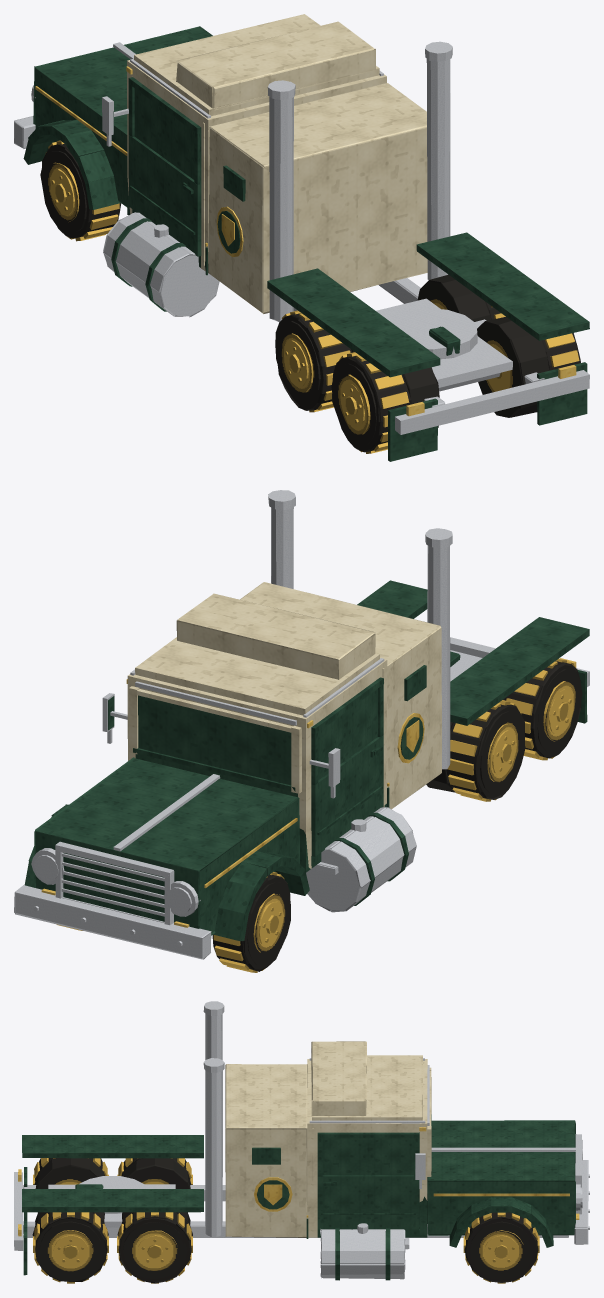
File: founders_semi.glb
3 renders of one model, top to bottom at view 1: azimuth 30°, elevation 25°; view 2: azimuth 150°, elevation 25°; view 3: azimuth 270°, elevation 25°, orthographic. The views are drawn at different scales.
Visible parts, largest first — view 1: FoundersSemi, Door_L, Wheel_L3, Wheel_L2, Wheel_R3, Wheel_L1, Glass_L, Wheel_R2; view 2: FoundersSemi, Door_L, Wheel_L2, Wheel_L3, Wheel_L1, Glass_L; view 3: FoundersSemi, Door_R, Wheel_R3, Wheel_R2, Wheel_R1, Glass_R, Wheel_L2, Wheel_L3.
Boxes of the visible parts, x1,y1,x2,y2 form: FoundersSemi: [14, 14, 589, 461]; Door_L: [128, 77, 201, 256]; Wheel_L3: [331, 352, 439, 453]; Wheel_L2: [275, 310, 354, 412]; Wheel_R3: [477, 317, 580, 417]; Wheel_L1: [40, 140, 121, 241]; Glass_L: [134, 88, 201, 184]; Wheel_R2: [417, 274, 505, 321]; FoundersSemi: [14, 490, 589, 959]; Door_L: [311, 677, 383, 856]; Wheel_L2: [426, 700, 525, 801]; Wheel_L3: [503, 658, 582, 760]; Wheel_L1: [212, 872, 290, 972]; Glass_L: [318, 689, 377, 779]; FoundersSemi: [14, 1001, 589, 1280]; Door_R: [317, 1132, 419, 1229]; Wheel_R3: [32, 1212, 108, 1283]; Wheel_R2: [117, 1212, 192, 1283]; Wheel_R1: [463, 1212, 539, 1283]; Glass_R: [322, 1138, 414, 1175]; Wheel_L2: [117, 1158, 192, 1188]; Wheel_L3: [33, 1158, 108, 1188].
Size of the model in its own units: 2.75 by 2.92 by 7.09.
Materials: 5 (5 with a texture image).
